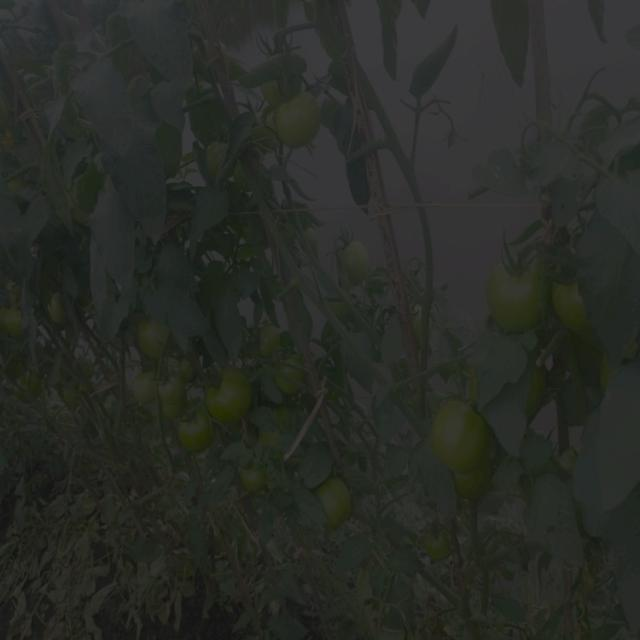tomato: (429, 394, 492, 470), (488, 254, 547, 334), (271, 96, 327, 144), (204, 374, 251, 425), (554, 282, 592, 336), (170, 416, 219, 456), (131, 316, 174, 352), (326, 481, 355, 532), (342, 237, 372, 283), (45, 295, 76, 337), (1, 295, 35, 333), (278, 358, 309, 397), (136, 370, 161, 406), (170, 343, 198, 375), (199, 137, 232, 163), (426, 529, 450, 564), (259, 324, 278, 359), (158, 370, 175, 407), (238, 468, 259, 494)
